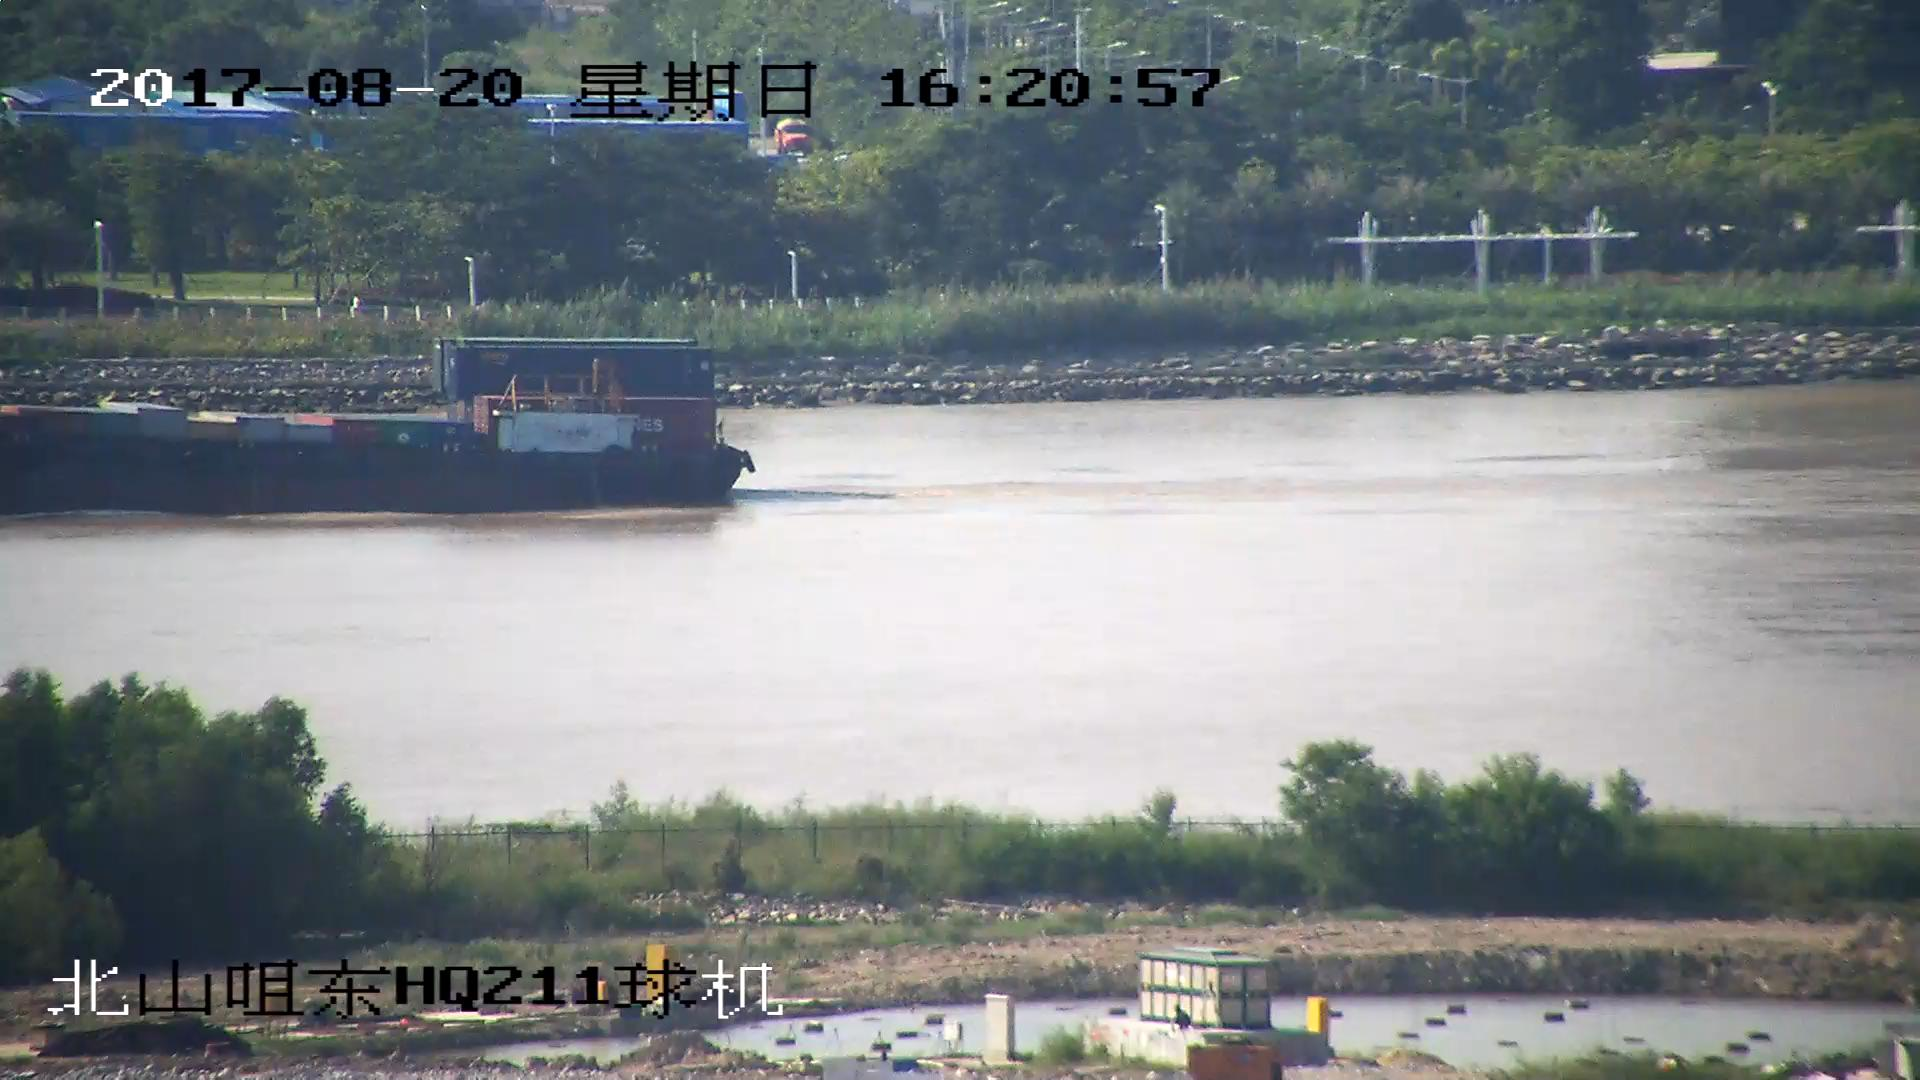container ship: (1, 330, 750, 509)
